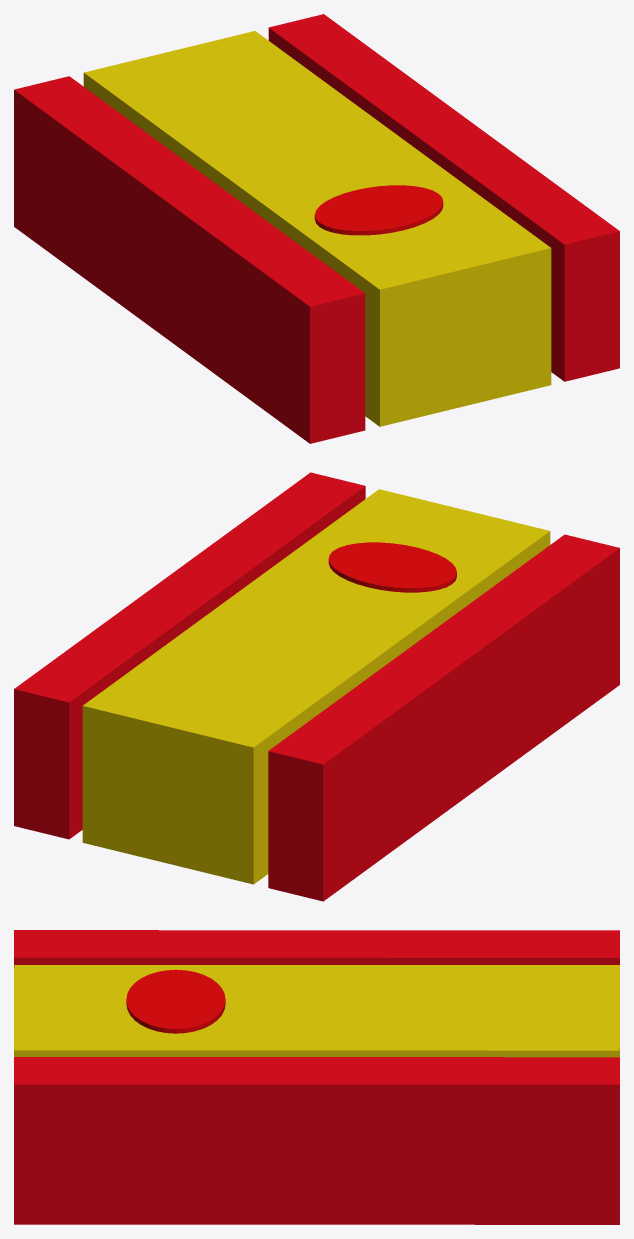
File: spainFlag.gltf
3 renders of one model, top to bottom at view 1: azimuth 30°, elevation 25°; view 2: azimuth 150°, elevation 25°; view 3: azimuth 270°, elevation 25°, orthographic. The views are drawn at different scales.
Visible parts, largest first — view 1: Cube, Cube.001, Cube.003, Cylinder; view 2: Cube, Cube.001, Cube.003, Cylinder; view 3: Cube.003, Cube, Cube.001, Cylinder.
Boxes of the visible parts, x1,y1,x2,y2 form: Cube: (83,31,551,426); Cube.001: (14,76,365,443); Cube.003: (268,14,619,381); Cylinder: (314,185,443,235); Cube: (82,489,550,884); Cube.001: (268,534,619,901); Cube.003: (14,472,365,839); Cylinder: (328,542,456,592); Cube.003: (14,1057,619,1224); Cube: (14,965,619,1057); Cube.001: (14,930,619,967); Cylinder: (126,969,225,1033).
Size of the model in its own units: 4.74 by 2.07 by 7.84.
